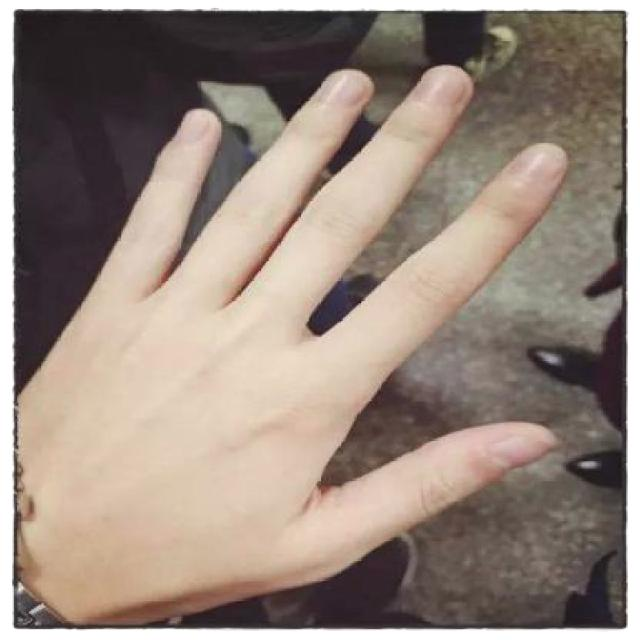hand_noglove: (52, 59, 570, 612)
